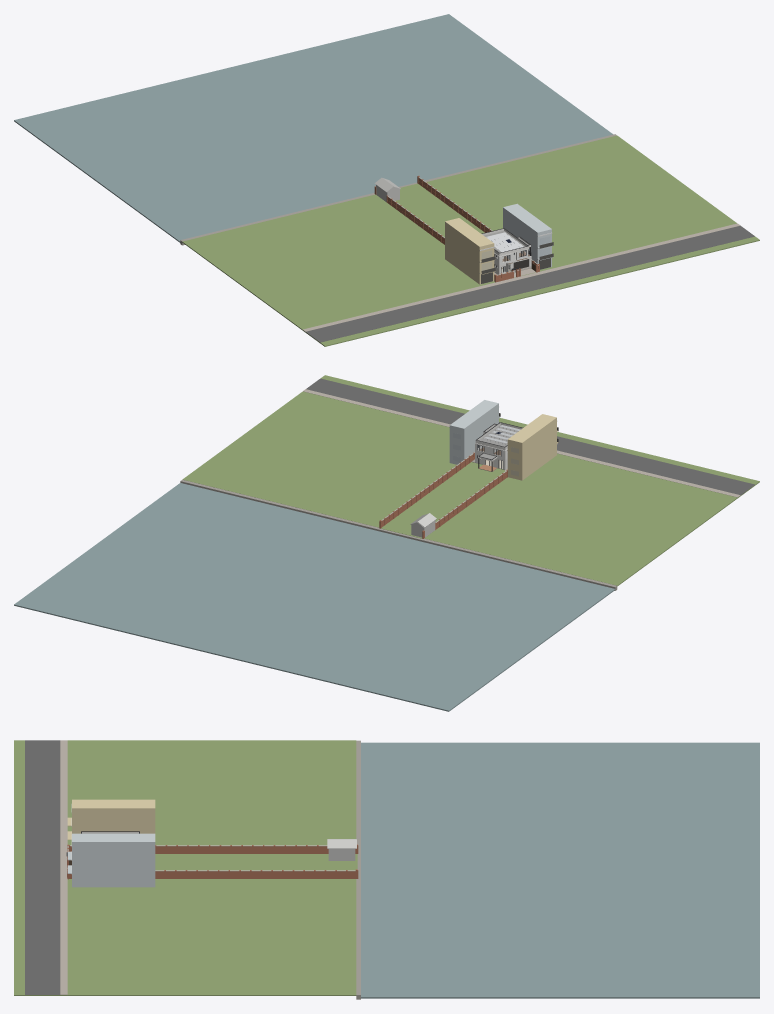
File: c3_architecture.fbx
The picture shows the model from 3 angles, top to bottom: view 1: azimuth 30°, elevation 25°; view 2: azimuth 150°, elevation 25°; view 3: azimuth 270°, elevation 25°; orthographic projection. The views are drawn at different scales.
Parts seen in each view (by area): view 1: SITE__river, SITE__grass, SITE__asphalt, NEIGHBOURS__neigh_a, SITE__paver, NEIGHBOURS__neigh_b, FENCE__brick, SITE__stone_dk; view 2: SITE__river, SITE__grass, SITE__asphalt, NEIGHBOURS__neigh_a, SITE__stone_dk, NEIGHBOURS__neigh_b, FENCE__brick, SITE__paver; view 3: SITE__river, SITE__grass, SITE__asphalt, NEIGHBOURS__neigh_b, FENCE__brick, NEIGHBOURS__neigh_a, SITE__paver, SITE__stone_dk, FENCE__stone, SITE__existing.
Boxes of the visible parts, x1,y1,x2,y2 form: SITE__river: [14, 14, 613, 242]; SITE__grass: [182, 135, 759, 346]; SITE__asphalt: [306, 225, 754, 342]; NEIGHBOURS__neigh_a: [445, 218, 495, 284]; SITE__paver: [302, 223, 740, 331]; NEIGHBOURS__neigh_b: [503, 203, 553, 267]; FENCE__brick: [374, 175, 539, 282]; SITE__stone_dk: [180, 134, 616, 245]; SITE__river: [14, 483, 615, 711]; SITE__grass: [182, 375, 759, 586]; SITE__asphalt: [306, 378, 754, 495]; NEIGHBOURS__neigh_a: [507, 414, 558, 480]; SITE__stone_dk: [180, 479, 617, 590]; NEIGHBOURS__neigh_b: [449, 400, 500, 464]; FENCE__brick: [379, 452, 507, 538]; SITE__paver: [303, 389, 740, 497]; SITE__river: [361, 742, 759, 998]; SITE__grass: [14, 740, 357, 995]; SITE__asphalt: [25, 740, 60, 994]; NEIGHBOURS__neigh_b: [67, 833, 155, 887]; FENCE__brick: [67, 844, 358, 879]; NEIGHBOURS__neigh_a: [67, 799, 155, 839]; SITE__paver: [60, 740, 67, 994]; SITE__stone_dk: [356, 740, 360, 999]; FENCE__stone: [67, 845, 355, 871]; SITE__existing: [327, 839, 356, 860].
Bounding box in the file's own units: 135 × 12.4 × 167.
